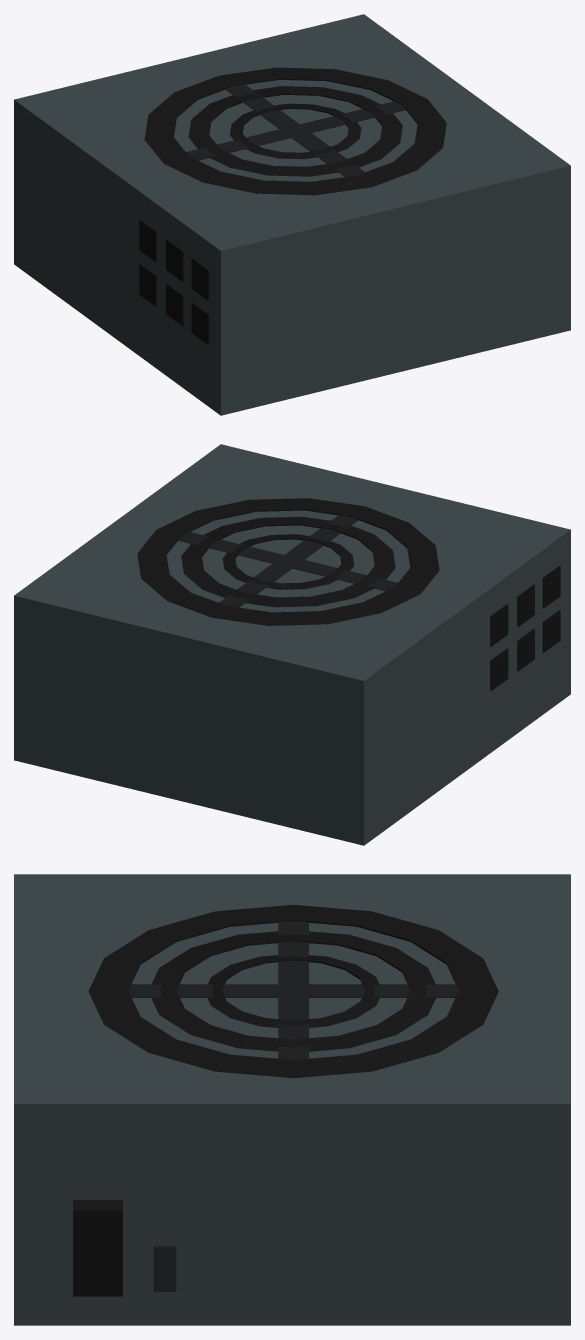
The model's file is PSU.fbx.
3 renders of one model, top to bottom at view 1: azimuth 30°, elevation 25°; view 2: azimuth 150°, elevation 25°; view 3: azimuth 270°, elevation 25°, orthographic. The views are drawn at different scales.
Visible parts, largest first — view 1: Torus.002; view 2: Torus.002; view 3: Torus.002.
Boxes of the visible parts, bbox=[...] form: Torus.002: bbox=[14, 14, 570, 415]; Torus.002: bbox=[14, 444, 570, 845]; Torus.002: bbox=[14, 874, 570, 1325].
Size of the model in its own units: 202 by 87.13 by 197.
